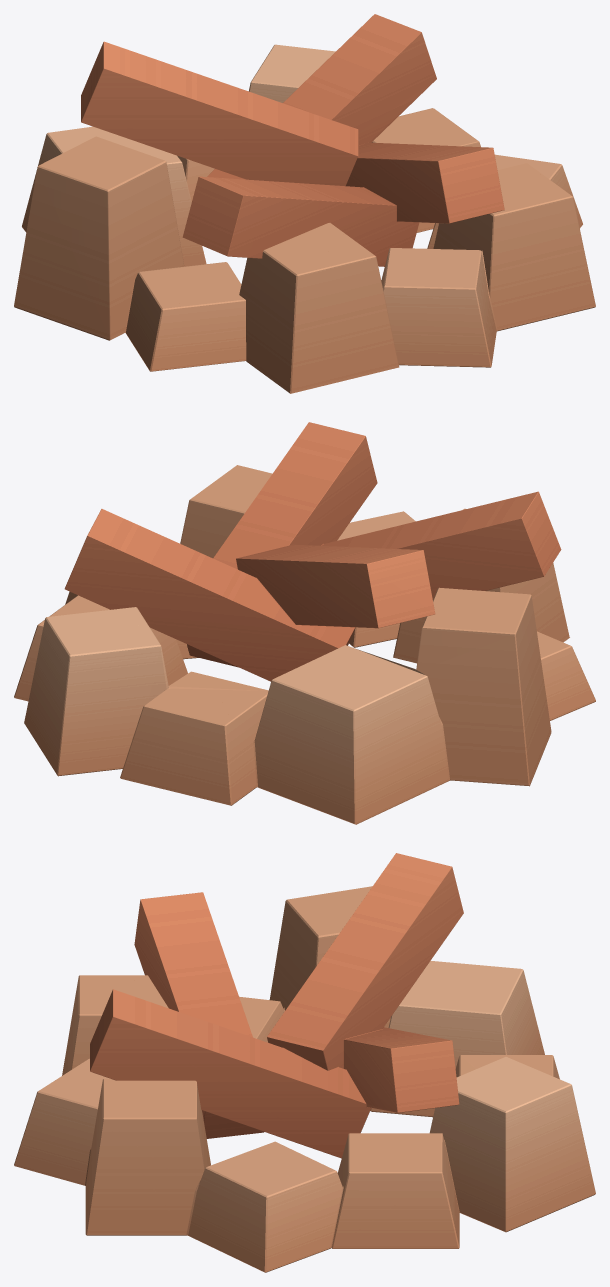
Rendered from kenney-survival__campfire-pit.glb.
3 views of the same model, one above another, from view 1: azimuth 30°, elevation 25°; view 2: azimuth 150°, elevation 25°; view 3: azimuth 270°, elevation 25° (orthographic). The views are drawn at different scales.
Visible parts, largest first — view 1: campfire-pit, wood; view 2: campfire-pit, wood; view 3: campfire-pit, wood.
Part boxes in pixels (<box>): campfire-pit: <box>14,44,595,393</box>; wood: <box>81,14,504,266</box>; campfire-pit: <box>14,465,595,824</box>; wood: <box>64,422,561,681</box>; campfire-pit: <box>14,886,595,1272</box>; wood: <box>90,853,463,1158</box>.
Bounding box in the file's own units: 0.277 × 0.109 × 0.2684.
1 material, 1 textured.
